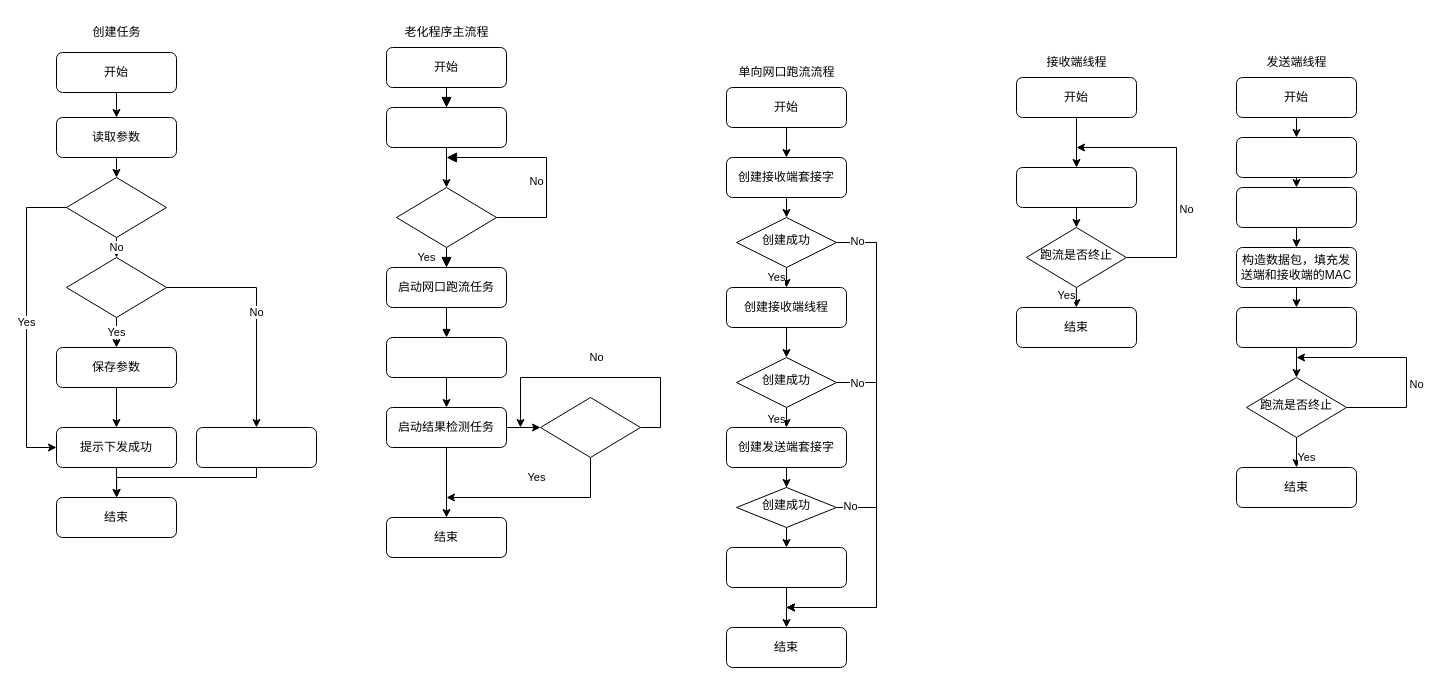
This 1440x685 diagram has some shape labels left out. Each missing label, with the centre of its shape:
创建发送端线程: [786,567]
初始化: [446,127]
参数是否为空: [116,207]
发送数据: [1296,327]
启动总计时器: [446,357]
接收数据: [1076,187]
提示下发失败: [256,447]
是否所有参数 合法: [116,287]
测试过程 是否异常: [590,427]
网口检测: [446,217]
获取接口索引: [1296,157]
设置链路层地址: [1296,207]
